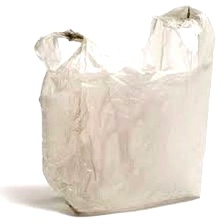plastic_bag: (30, 1, 217, 221)
